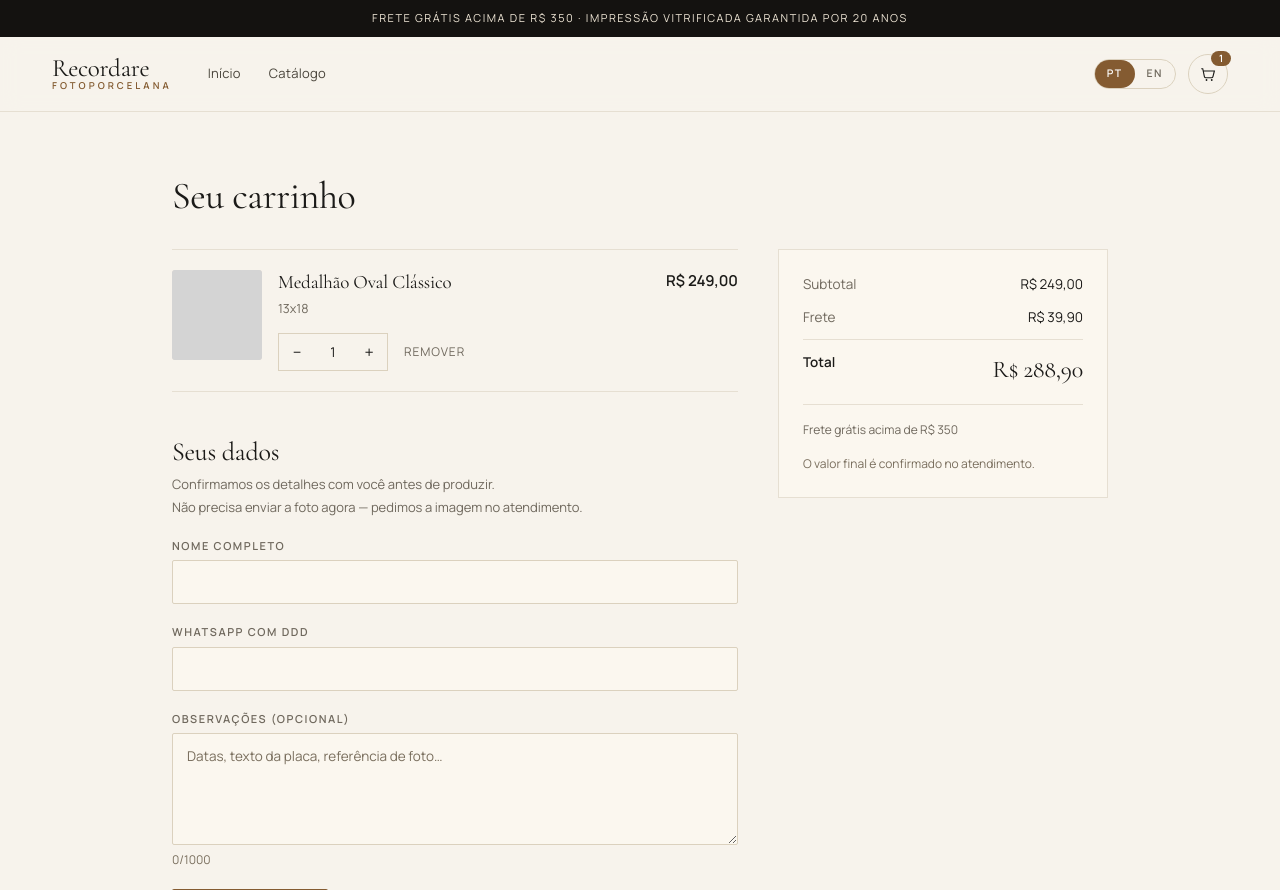
Scenario: medição › conta o pedido como lead, com a referência e sem nome nem telefone
The image size is (1280, 890).
In the field labelled "Nome completo": point(455, 582) [172,560,738,604], type "Maria Silva"
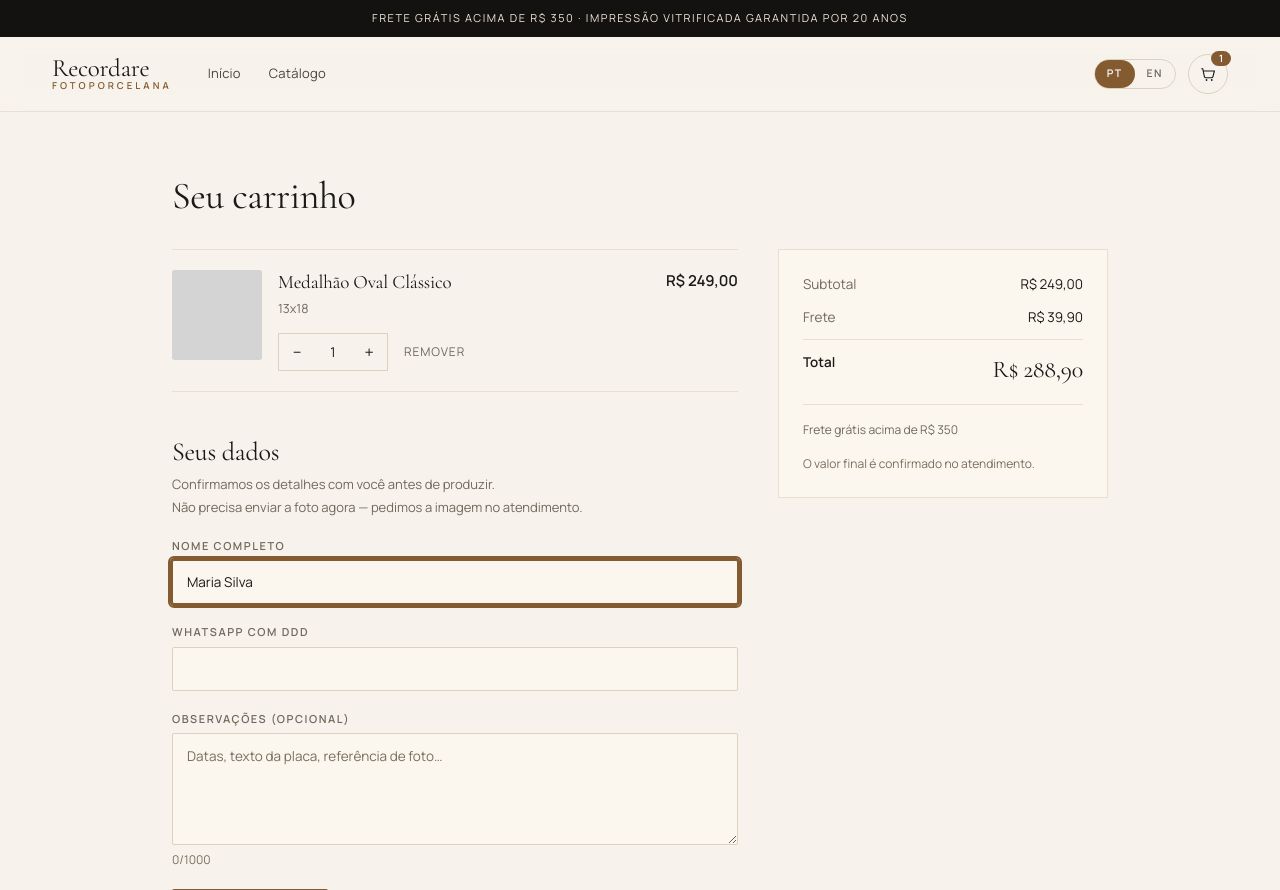
In the field labelled "WhatsApp com DDD": point(455, 669) [172,647,738,691], type "44999990000"
(page scrolled)
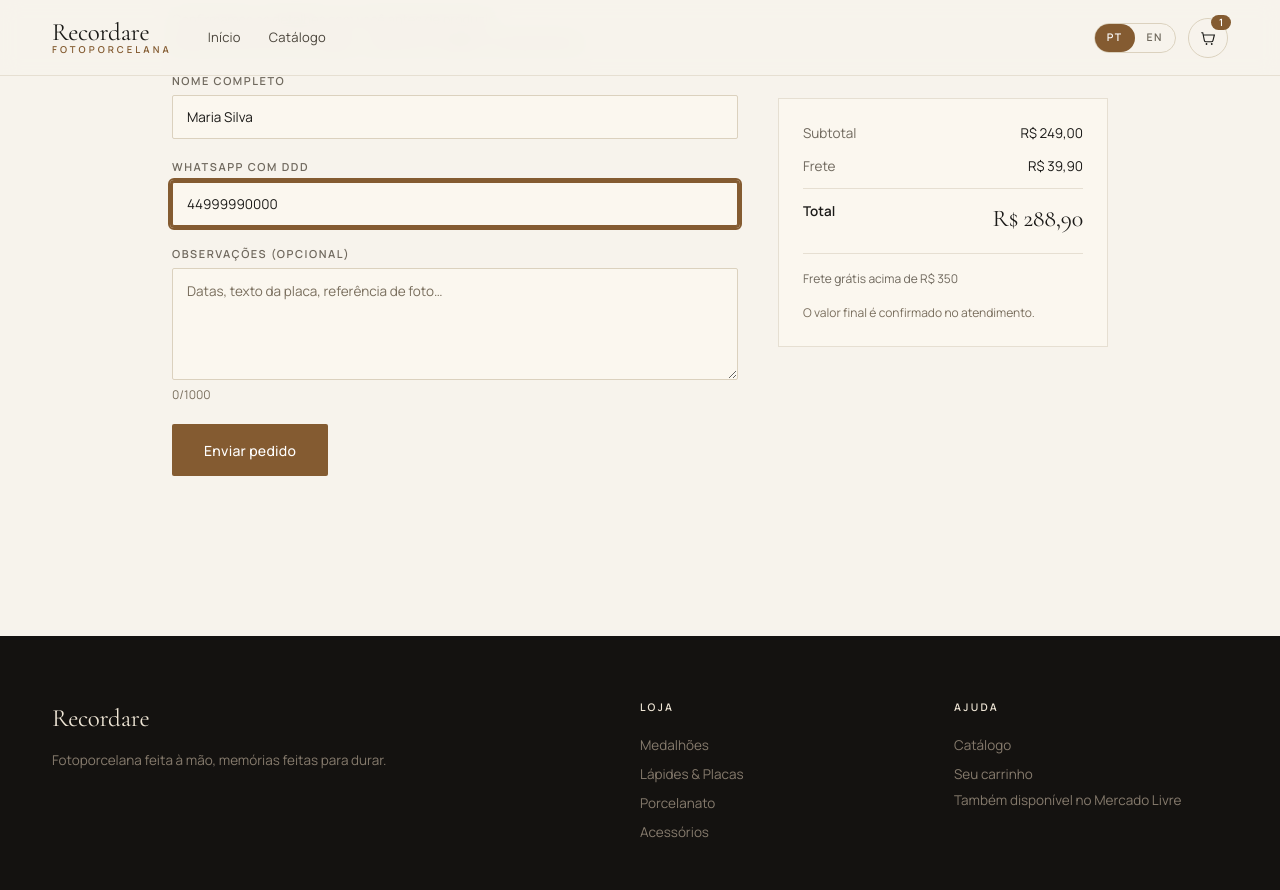
Click the button "Enviar pedido": point(250, 450) [172,424,328,476]
(page scrolled)
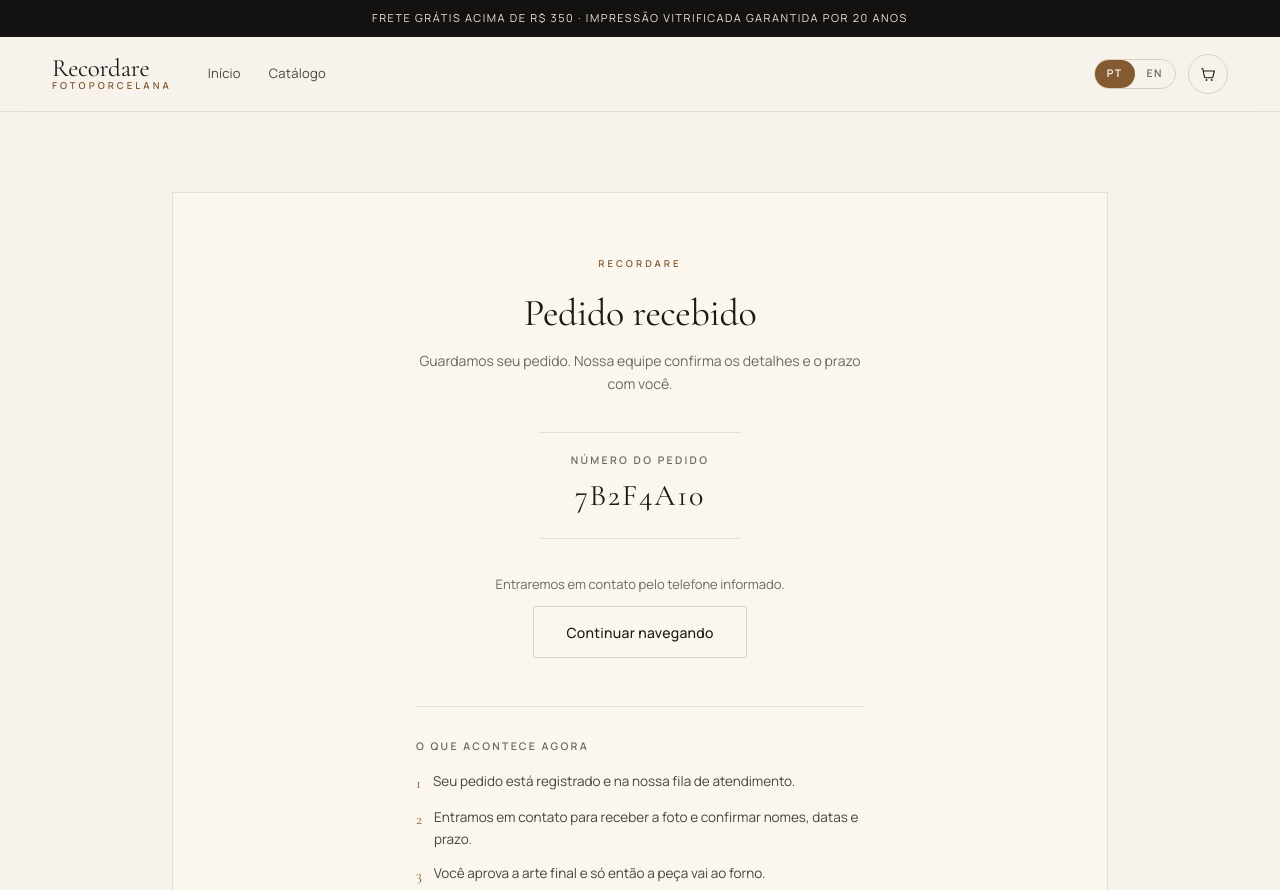
Result: the heading "Pedido recebido" is shown at [524,290,756,336]
